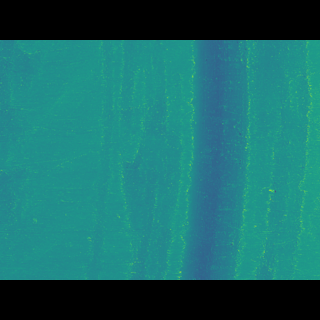Loch: (180, 68, 250, 249), (260, 68, 312, 250)
